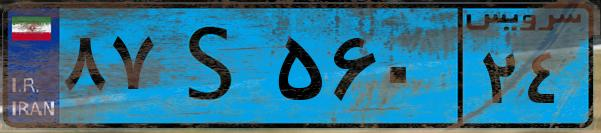0: (385, 28, 445, 110)
2: (475, 38, 525, 113)
4: (525, 38, 570, 115)
5: (270, 28, 330, 110)
6: (330, 28, 385, 110)
7: (110, 28, 158, 98)
8: (57, 26, 110, 100)
S: (158, 12, 270, 120)
